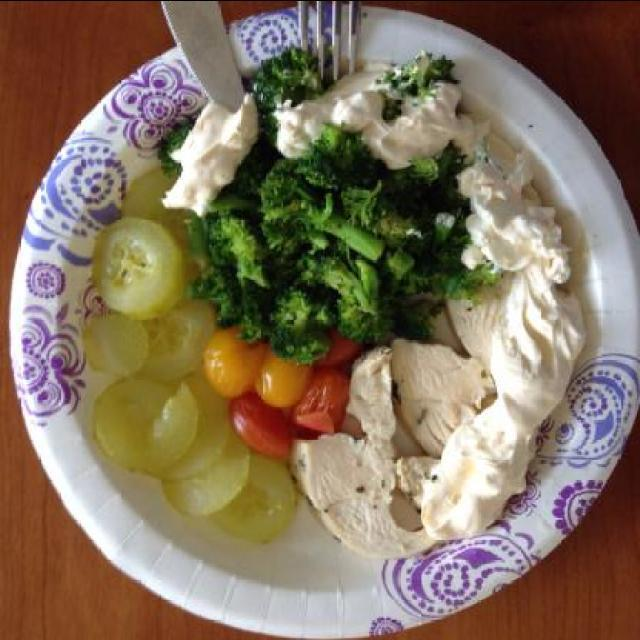Tomato: (292, 362, 354, 440), (228, 388, 294, 458), (313, 327, 359, 370)
